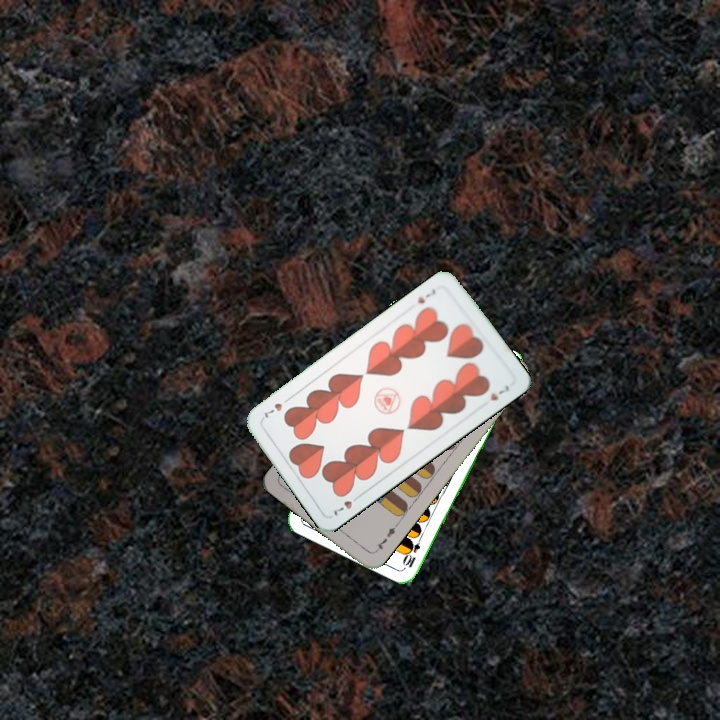E10: (400, 531, 425, 570)
E7: (370, 521, 400, 555)
H7: (330, 490, 363, 519), (414, 285, 439, 306)
